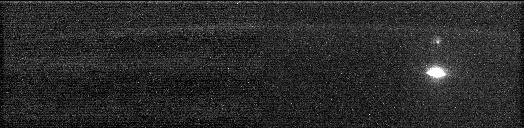positive: (432, 36, 445, 46)
